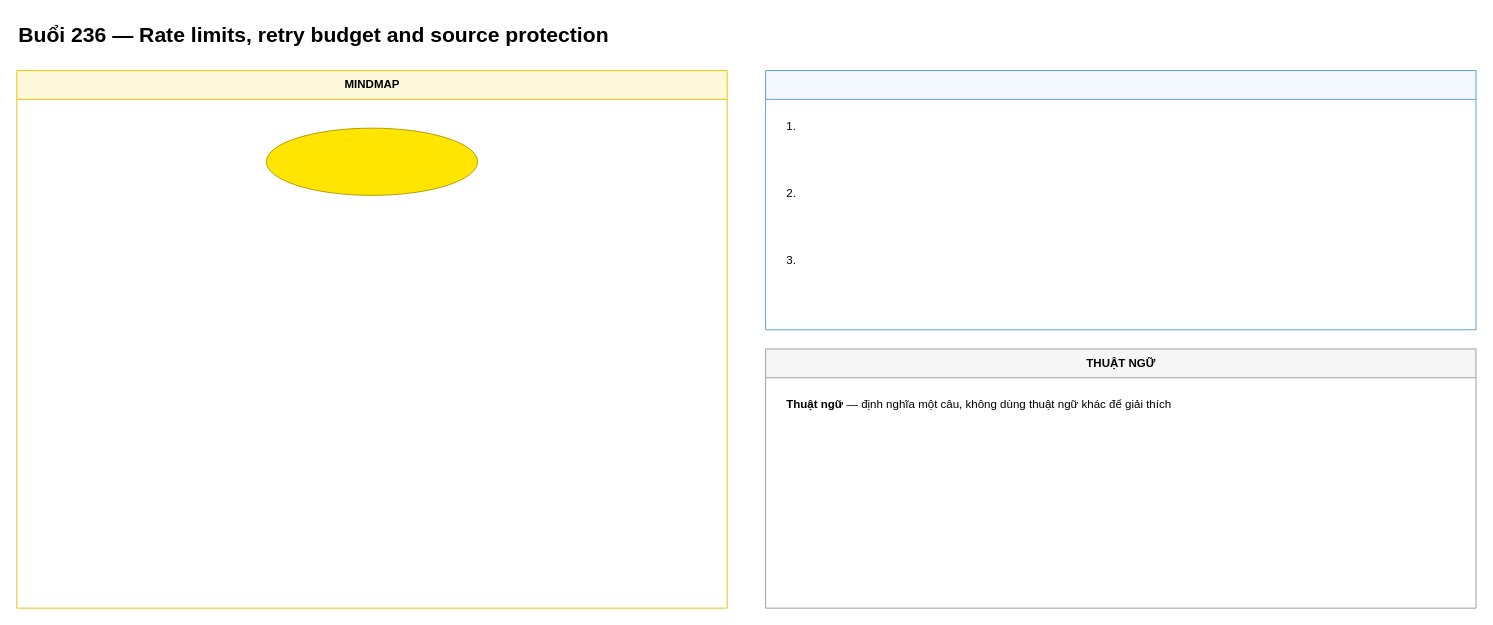
The diagram is 1493 pixels wide and 625 high, and some of its shapes have lost their labels. The shapes that lost their labels are listed below. From the top down, each one's box as (x1, y1, x2, y2) in pixels, then its label:
(265, 127, 478, 195): Rate limits, retry budget and source protection
(765, 70, 1476, 330): KEY TAKEAWAY — ba điều phải nhớ
